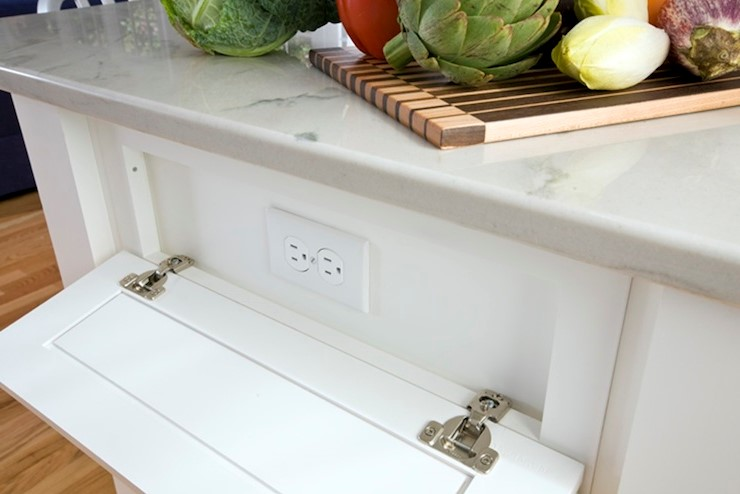outlet: (284, 239, 309, 265), (317, 254, 342, 280)
